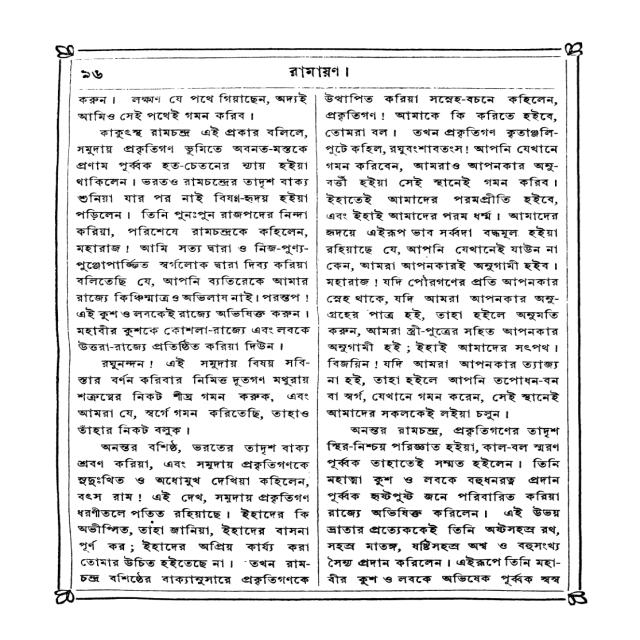page number: (76, 66, 108, 83)
paragraph: (320, 91, 563, 421), (71, 124, 313, 352), (323, 421, 565, 588), (73, 440, 314, 589), (73, 356, 312, 438), (73, 92, 311, 123)
text: (282, 62, 350, 82)
